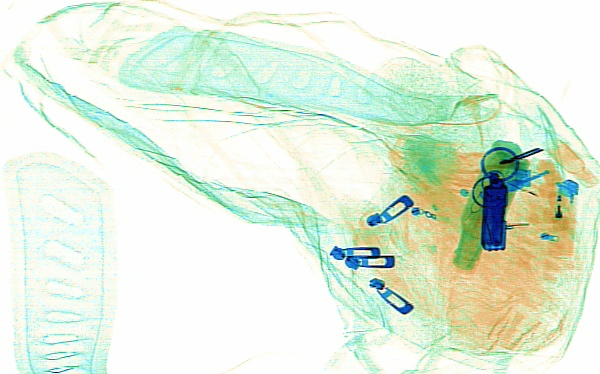lighter: (545, 176, 578, 258)
